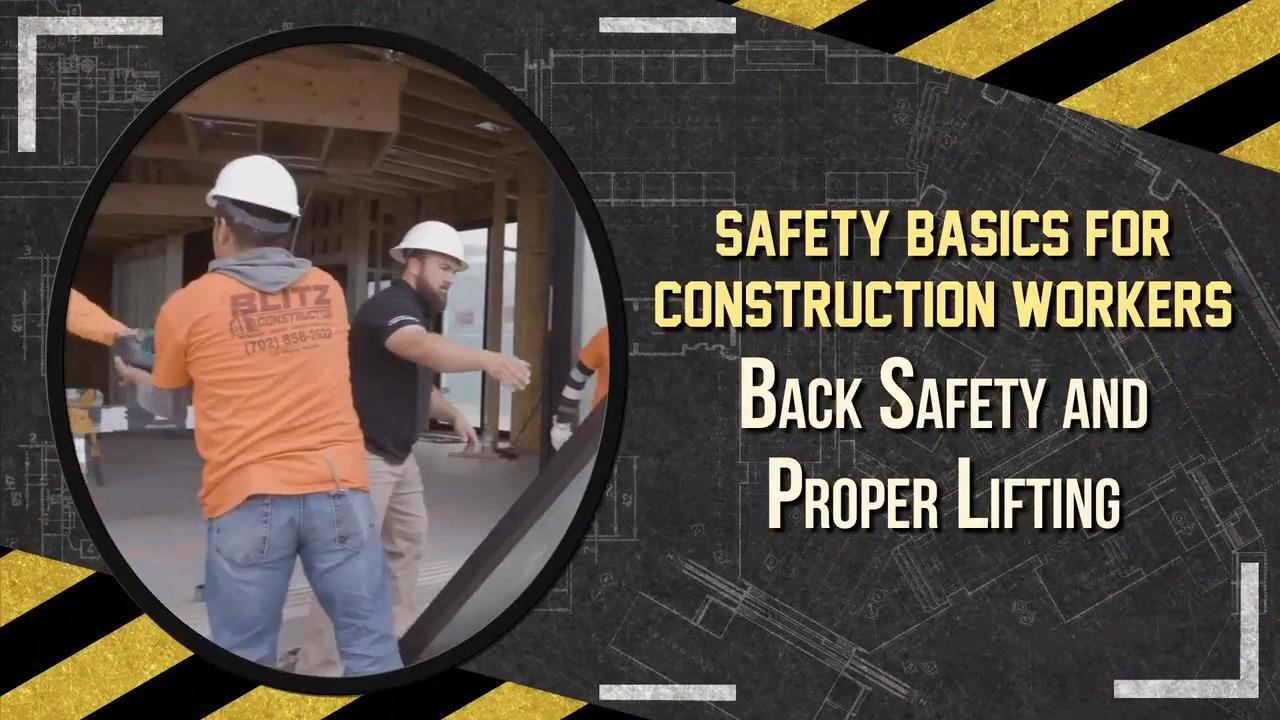Gloves: (487, 352, 536, 388), (451, 409, 482, 455)
Helmet: (204, 153, 301, 218), (387, 218, 468, 267)
Person: (144, 158, 353, 646), (347, 219, 532, 640)
no-vest: (149, 258, 371, 519), (350, 294, 433, 444)
